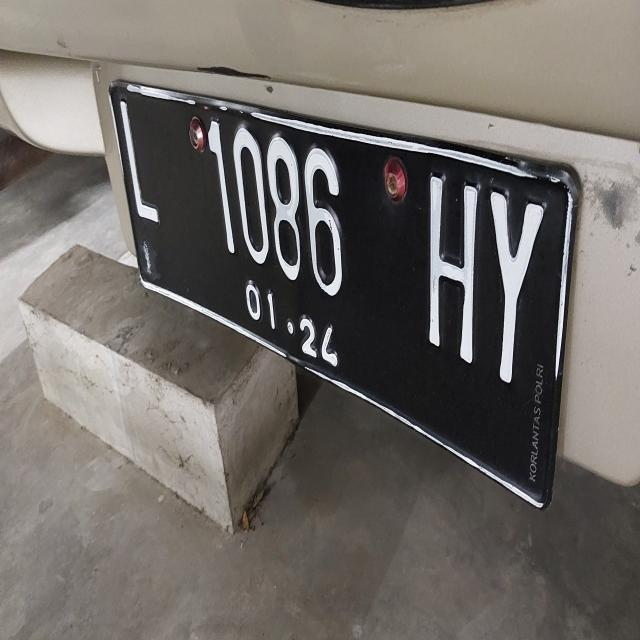0: (230, 124, 272, 266)
1: (196, 110, 240, 266)
6: (299, 140, 356, 304)
8: (263, 124, 310, 288)
H: (403, 150, 481, 369)
L: (108, 91, 176, 252)
Y: (481, 174, 554, 408)
